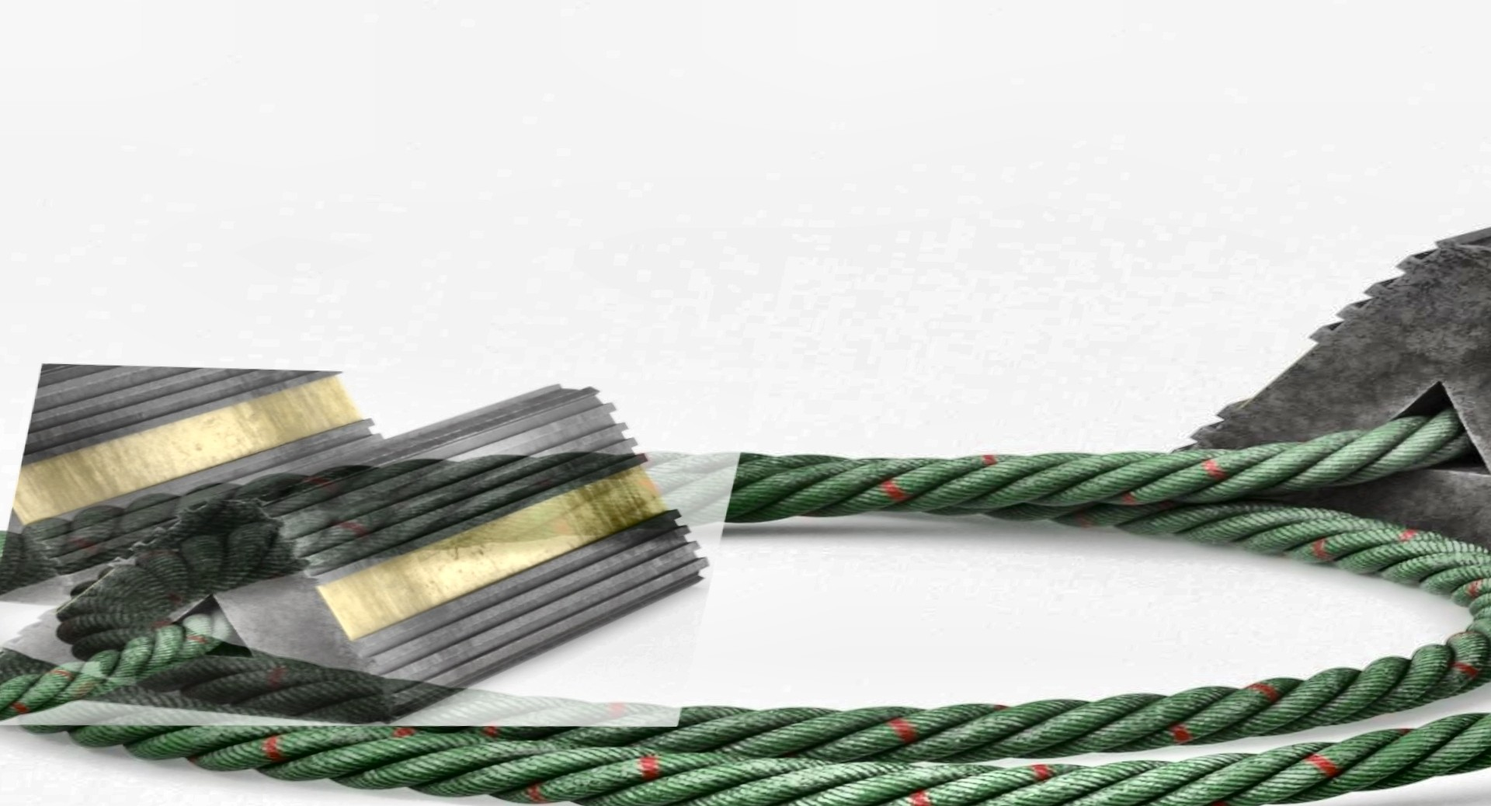chock: (0, 352, 761, 756), (1099, 68, 1491, 615)
